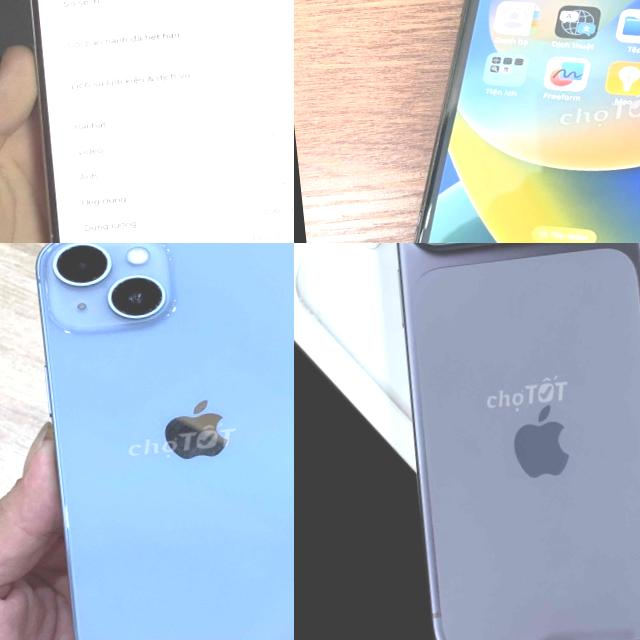gen_14: (27, 243, 294, 640)
gen_15: (0, 0, 294, 243)
gen_17: (368, 243, 640, 640)
gen_x_xs: (414, 0, 640, 243)
